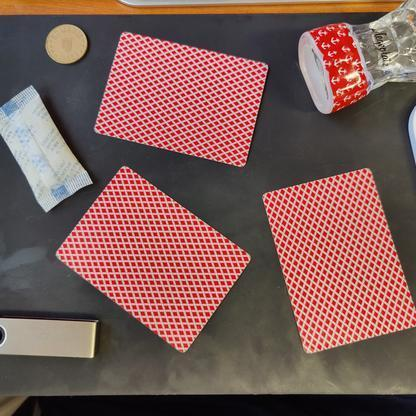card: (50, 162, 263, 355), (259, 163, 416, 358), (83, 24, 284, 173)
